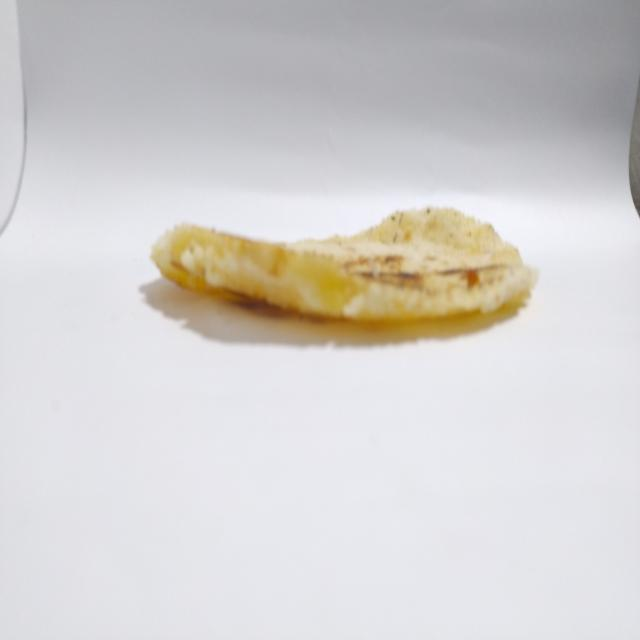Chipa_Guazu: (141, 188, 544, 341)
